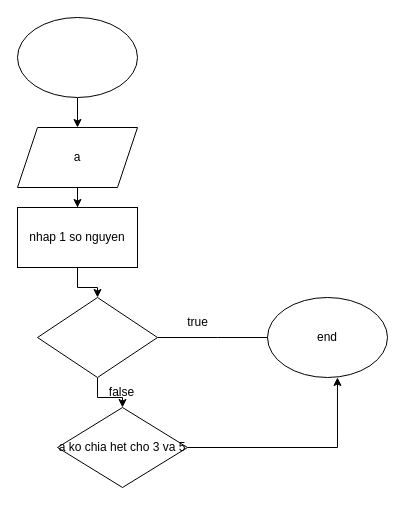
This 405x505 diagram has some shape labels left out. The shapes that lost their labels are listed below. From the top down, each one's centre as x and y in pixels, then its label:
At pixel 77 57: "begin".
At pixel 97 337: "a chia het cho 3 va 5".
